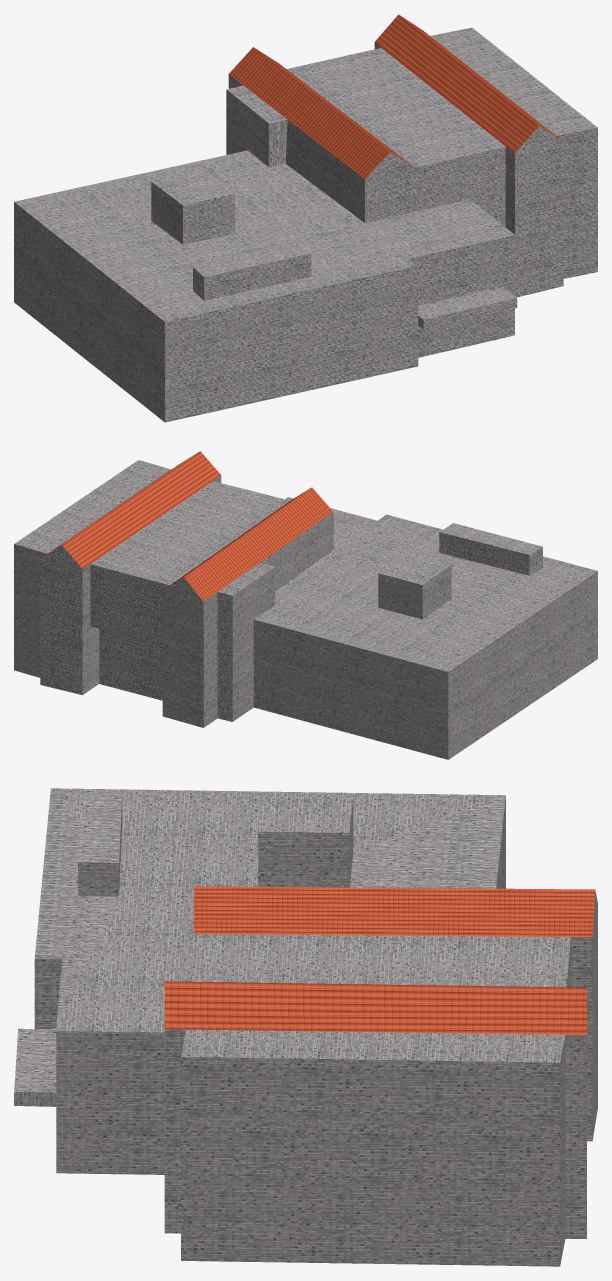
Rendered from LibraryTextured.gltf.
The picture shows the model from 3 angles, top to bottom: view 1: azimuth 30°, elevation 25°; view 2: azimuth 150°, elevation 25°; view 3: azimuth 270°, elevation 25°; orthographic projection. The views are drawn at different scales.
Parts seen in each view (by area): view 1: DavisLibrary_0; view 2: DavisLibrary_0; view 3: DavisLibrary_0.
Boxes of the visible parts, x1,y1,x2,y2 form: DavisLibrary_0: (14, 14, 597, 422); DavisLibrary_0: (14, 451, 597, 759); DavisLibrary_0: (14, 788, 597, 1266).
Bounding box in the file's own units: 73.41 × 24.17 × 53.9.
Materials: 2 (2 with a texture image).
